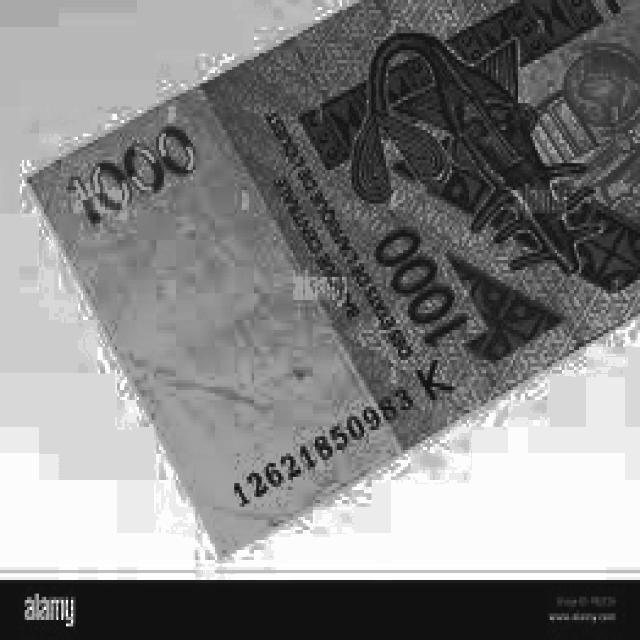niaar teemeer: (31, 3, 640, 549)
